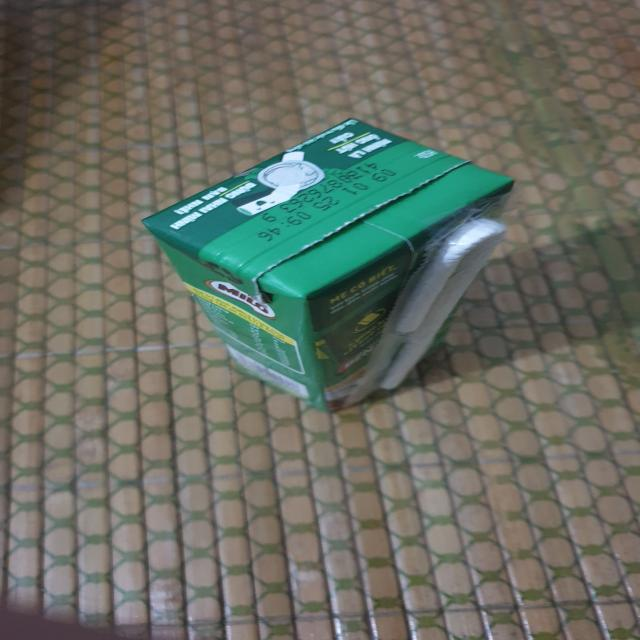Milo: (138, 116, 533, 421)
